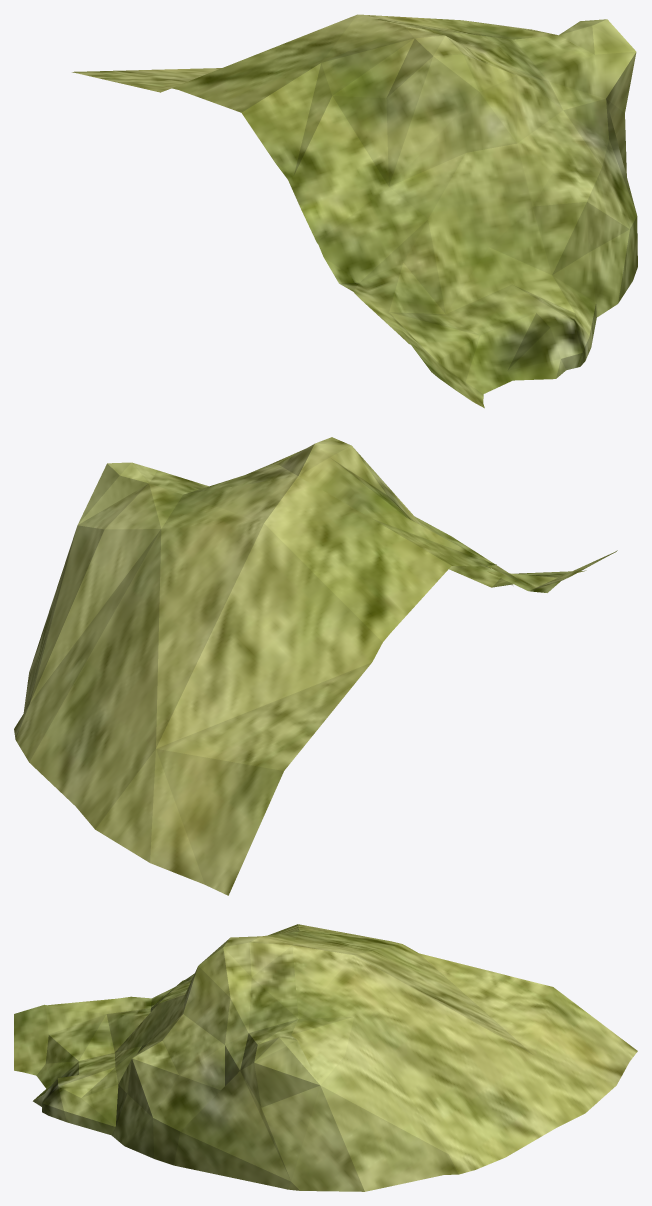
3 views of the same model, one above another, from view 1: azimuth 30°, elevation 25°; view 2: azimuth 150°, elevation 25°; view 3: azimuth 270°, elevation 25° (orthographic). The views are drawn at different scales.
Bounding box in the file's own units: 1.42 × 0.803 × 2.65.
Materials: 1 (1 with a texture image).
